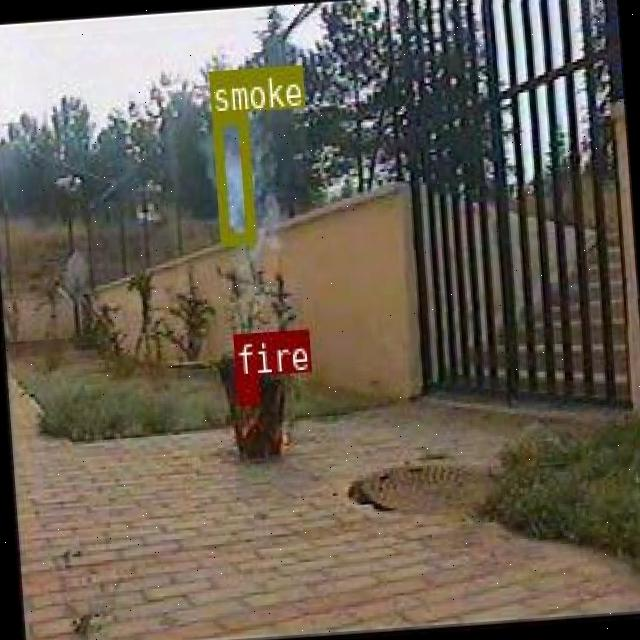fire: (235, 374, 258, 403)
smoke: (210, 109, 253, 243)
